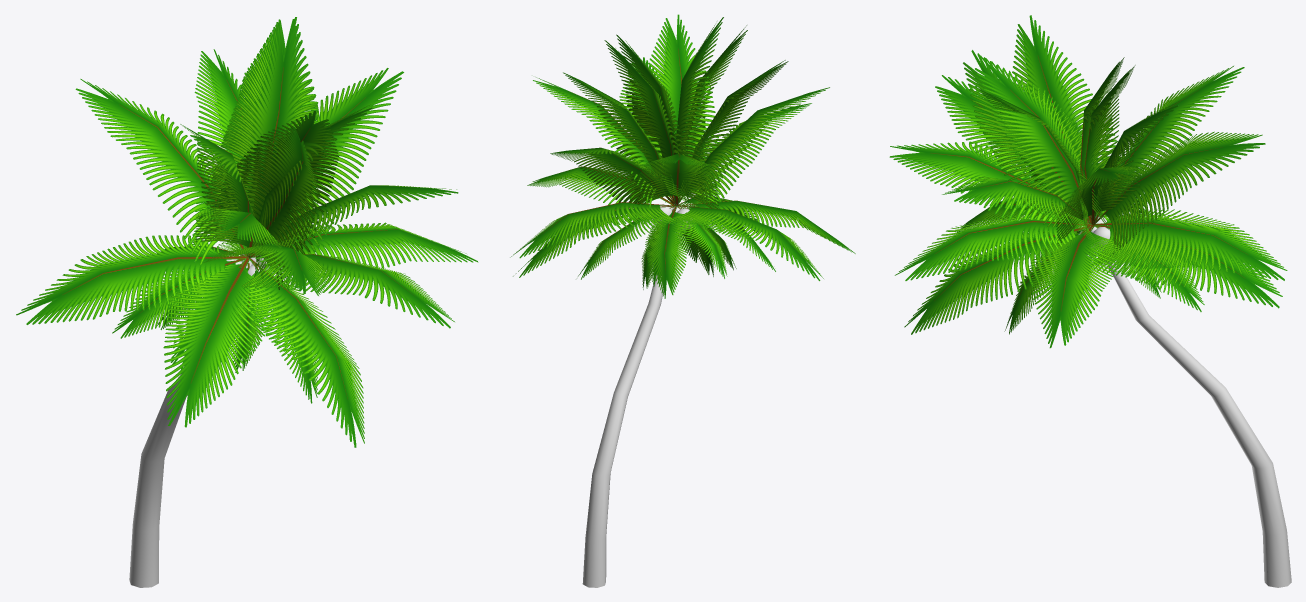
Rendered from Palm2.fbx.
The picture shows the model from 3 angles, left to right: view 1: azimuth 30°, elevation 25°; view 2: azimuth 150°, elevation 25°; view 3: azimuth 270°, elevation 25°; orthographic projection. The views are drawn at different scales.
Visible parts, largest first — view 1: Palm2_LOD0; view 2: Palm2_LOD0; view 3: Palm2_LOD0.
Boxes of the visible parts, x1,y1,x2,y2 form: Palm2_LOD0: [16, 17, 478, 587]; Palm2_LOD0: [510, 14, 855, 587]; Palm2_LOD0: [889, 15, 1291, 587].
Size of the model in its own units: 893 by 1260 by 845.
